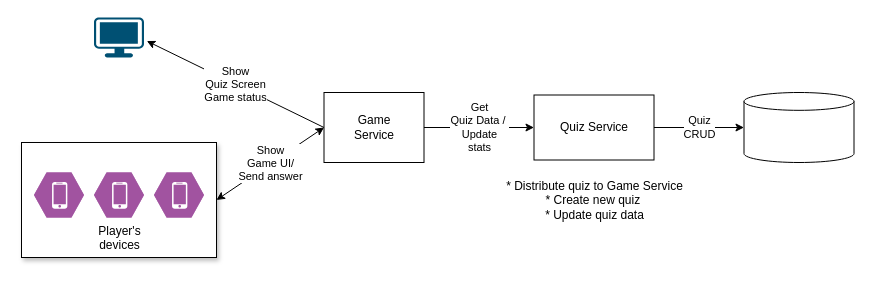
Some shapes in this 872 by 282 pixel diagram are drawn without their labels. The shapes that lost their labels are listed below. From the top down, each one's centre as x and y in pixels, then its label:
(x=119, y=37): Spectator Screen
(x=798, y=127): Quiz Database
